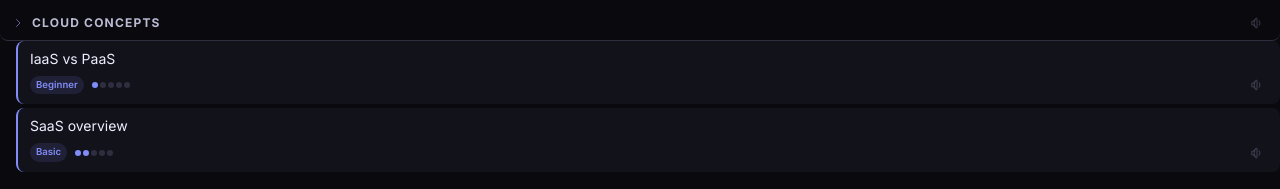
Scenario: TopicDashboard — interactions › collapses item when toggle button is clicked
Expected: the text "IaaS vs PaaS" is shown, [30, 50, 115, 67]
# Click the collapse toggle (first button inside item header)
Click the button "Cloud Concepts" at coordinates (96, 22), box [12, 15, 1238, 31]
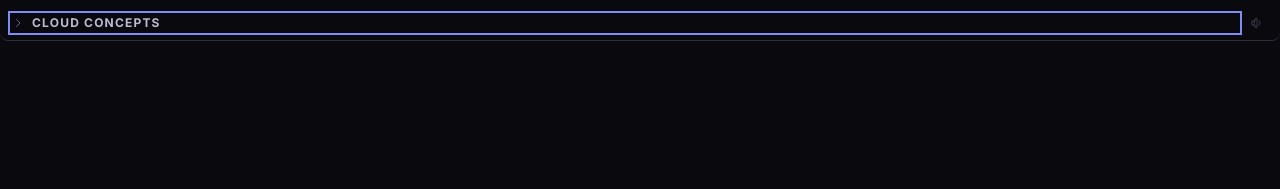
Result: the text "IaaS vs PaaS" is gone
